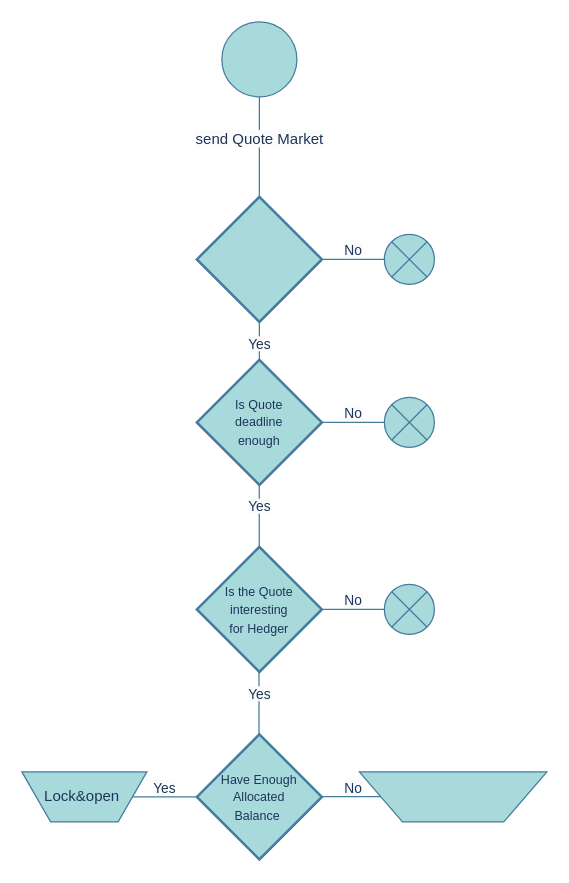
This 569x883 diagram has some shape labels left out. The centre of each missing label's shape, as x and y in pixels:
Allocate&Lock&Open: the point at 452,796
Is in Whitelist: the point at 258,258
